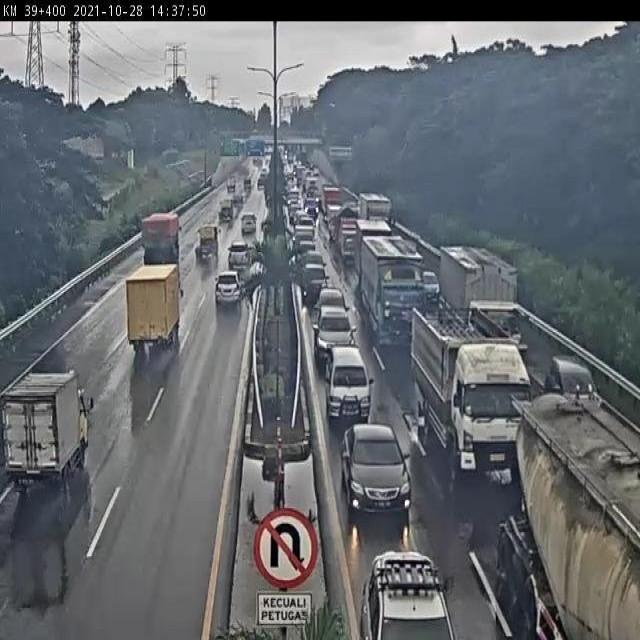truck-l-: (409, 297, 526, 471), (436, 241, 518, 356), (359, 230, 427, 338), (140, 210, 186, 266)
truck-m-: (4, 373, 92, 484), (126, 261, 183, 351)
truck-s-: (195, 223, 220, 264)
